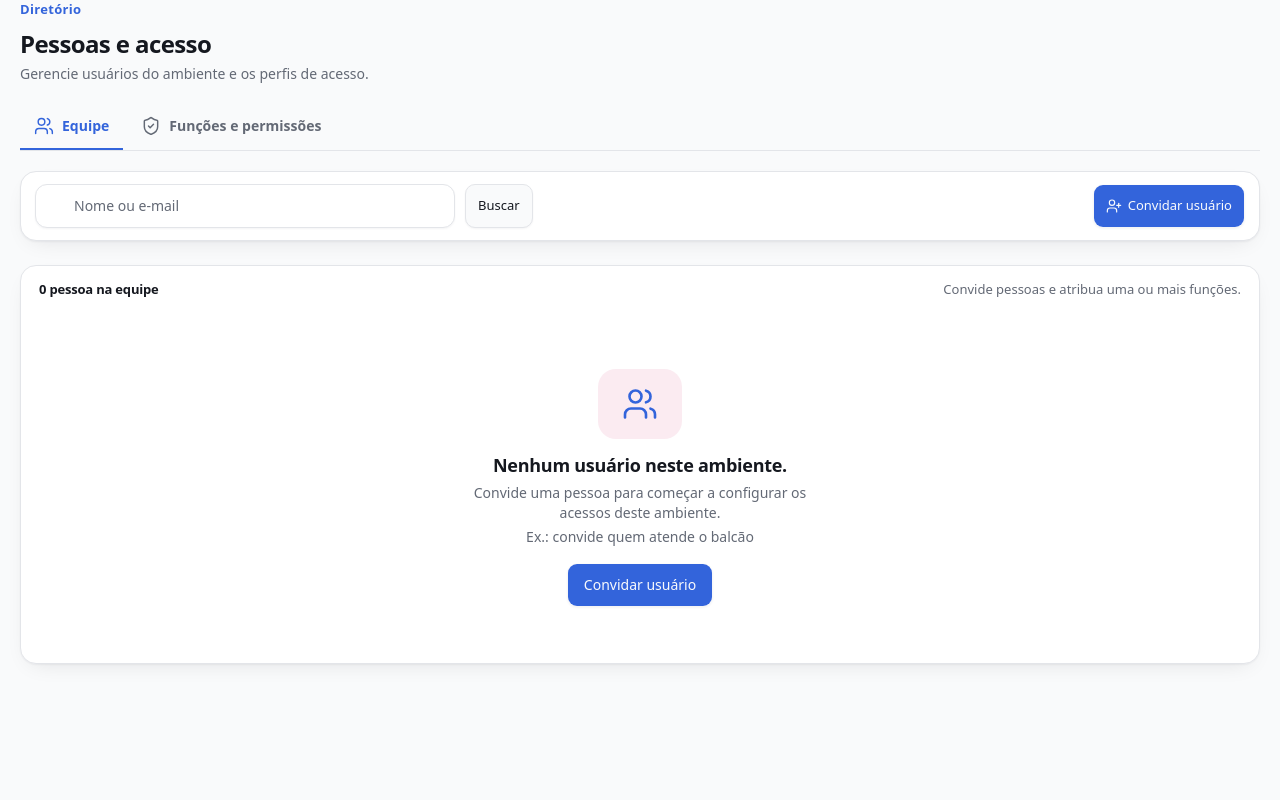
Test case: PeopleAccessPage › reuses the gated invite action in the empty state
Check: the text "Ex.: convide quem atende o balcão" is shown, box [526, 527, 754, 546]
Click the button "Convidar usuário" below "Ex.: convide quem atende o balcão" at (640, 585), box [567, 563, 713, 607]
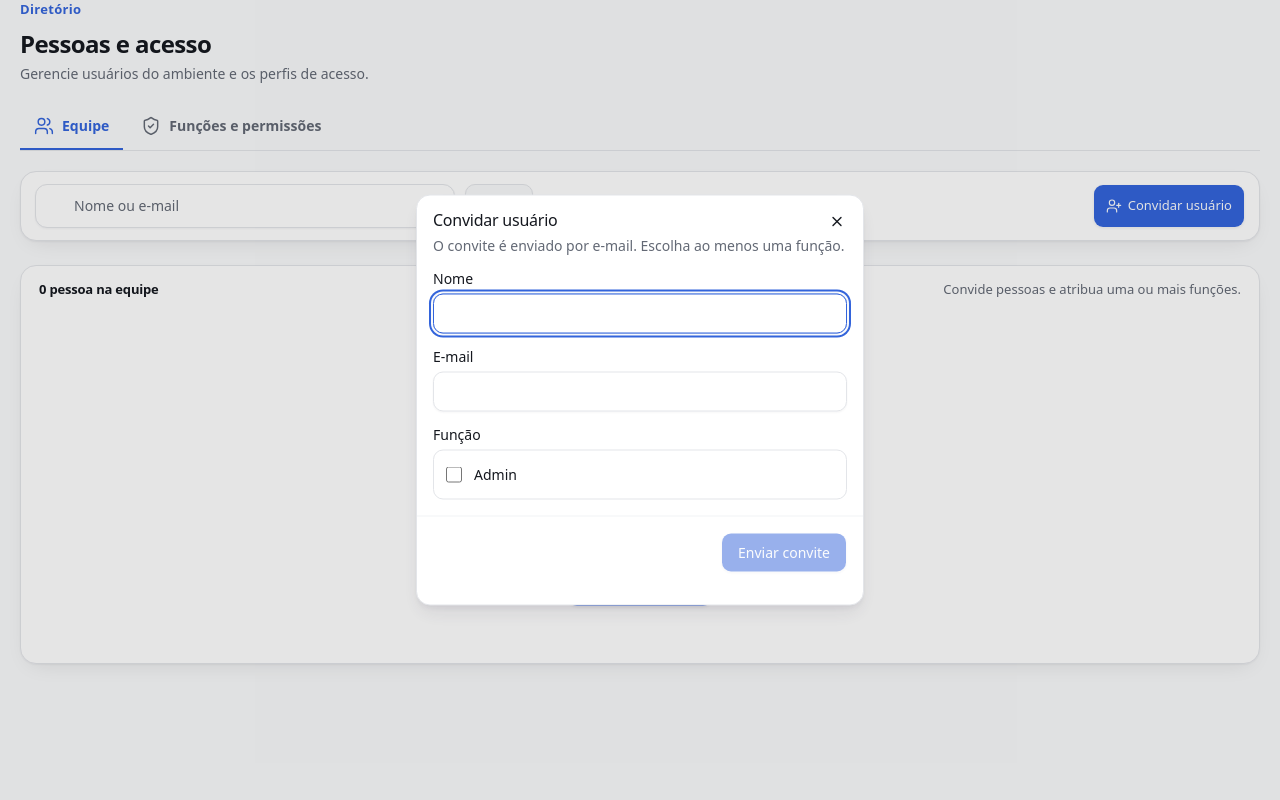
Check: the dialog is shown, box [416, 194, 864, 606]
